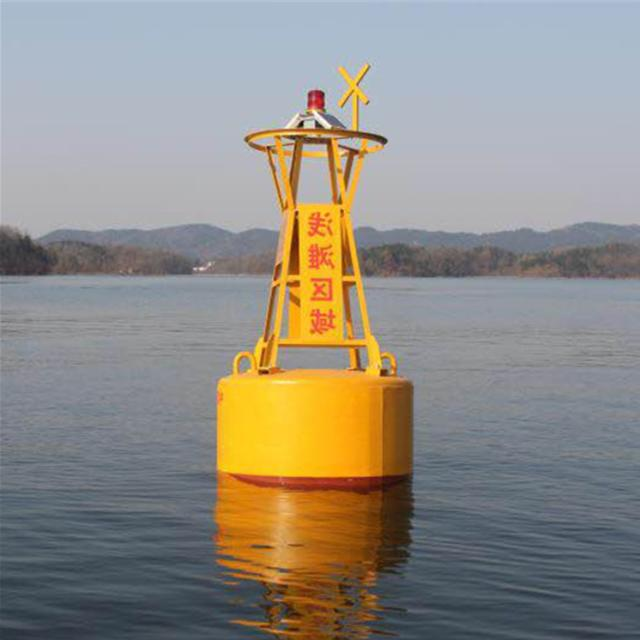buoy: (205, 57, 419, 482)
